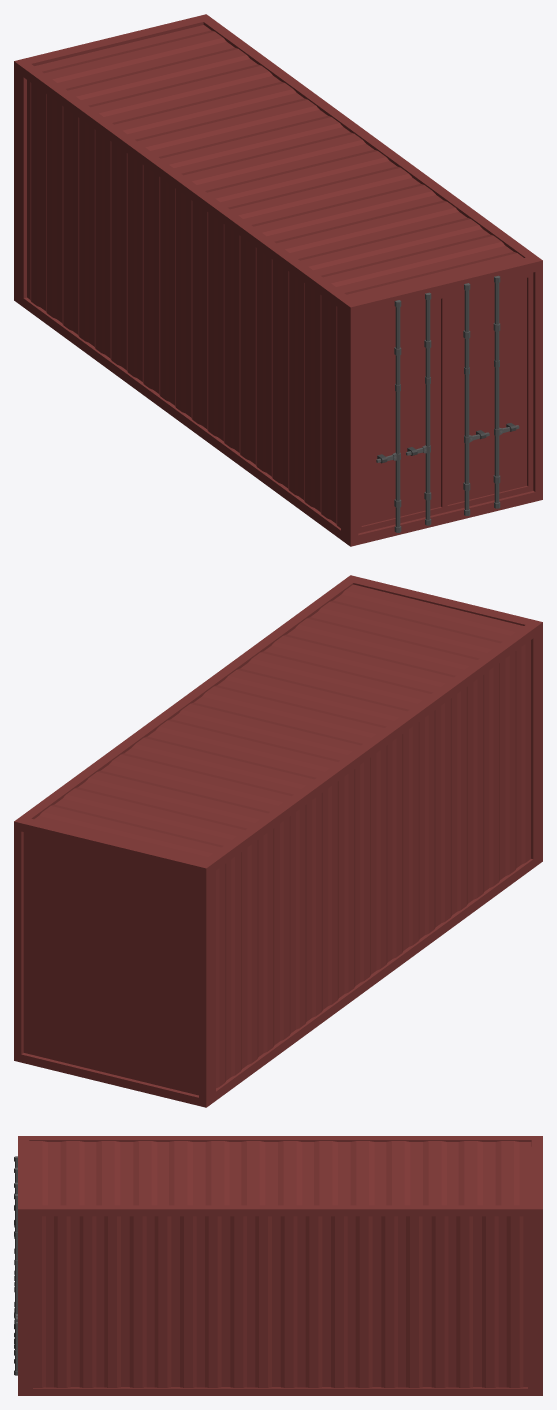
The model's file is Container1-1.fbx.
3 renders of one model, top to bottom at view 1: azimuth 30°, elevation 25°; view 2: azimuth 150°, elevation 25°; view 3: azimuth 270°, elevation 25°, orthographic. The views are drawn at different scales.
Visible parts, largest first — view 1: Container.000_LOD0; view 2: Container.000_LOD0; view 3: Container.000_LOD0.
Boxes of the visible parts, x1=… form: Container.000_LOD0: x1=14, y1=14, x2=542, y2=546; Container.000_LOD0: x1=14, y1=575, x2=542, y2=1107; Container.000_LOD0: x1=14, y1=1136, x2=542, y2=1395.
Size of what is drawn, in the model's own units: 432 by 513 by 1318.
1 material, 1 textured.
